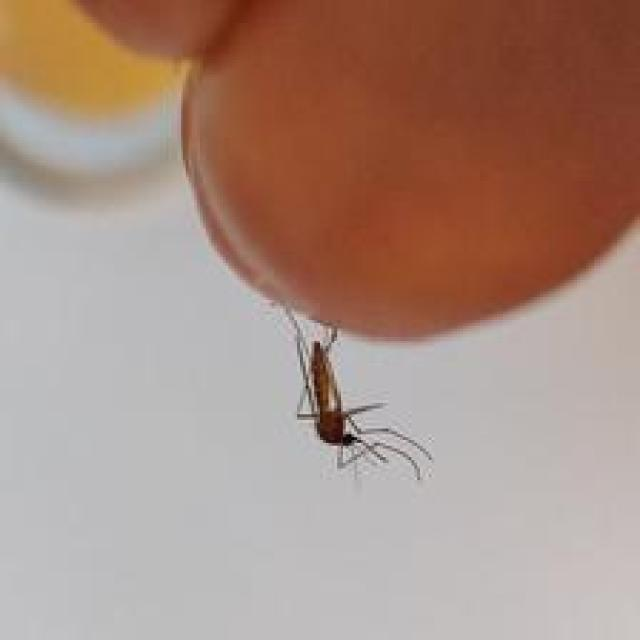Culex: (280, 306, 434, 483)
